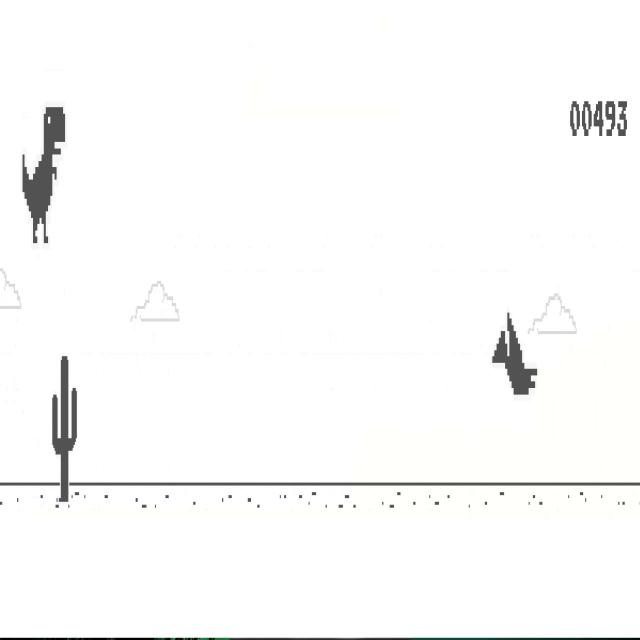cacto: (51, 354, 78, 504)
dino: (22, 104, 66, 246)
ptero: (492, 310, 538, 395)
